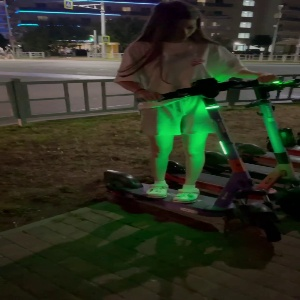human on a scooter: (103, 1, 282, 244)
